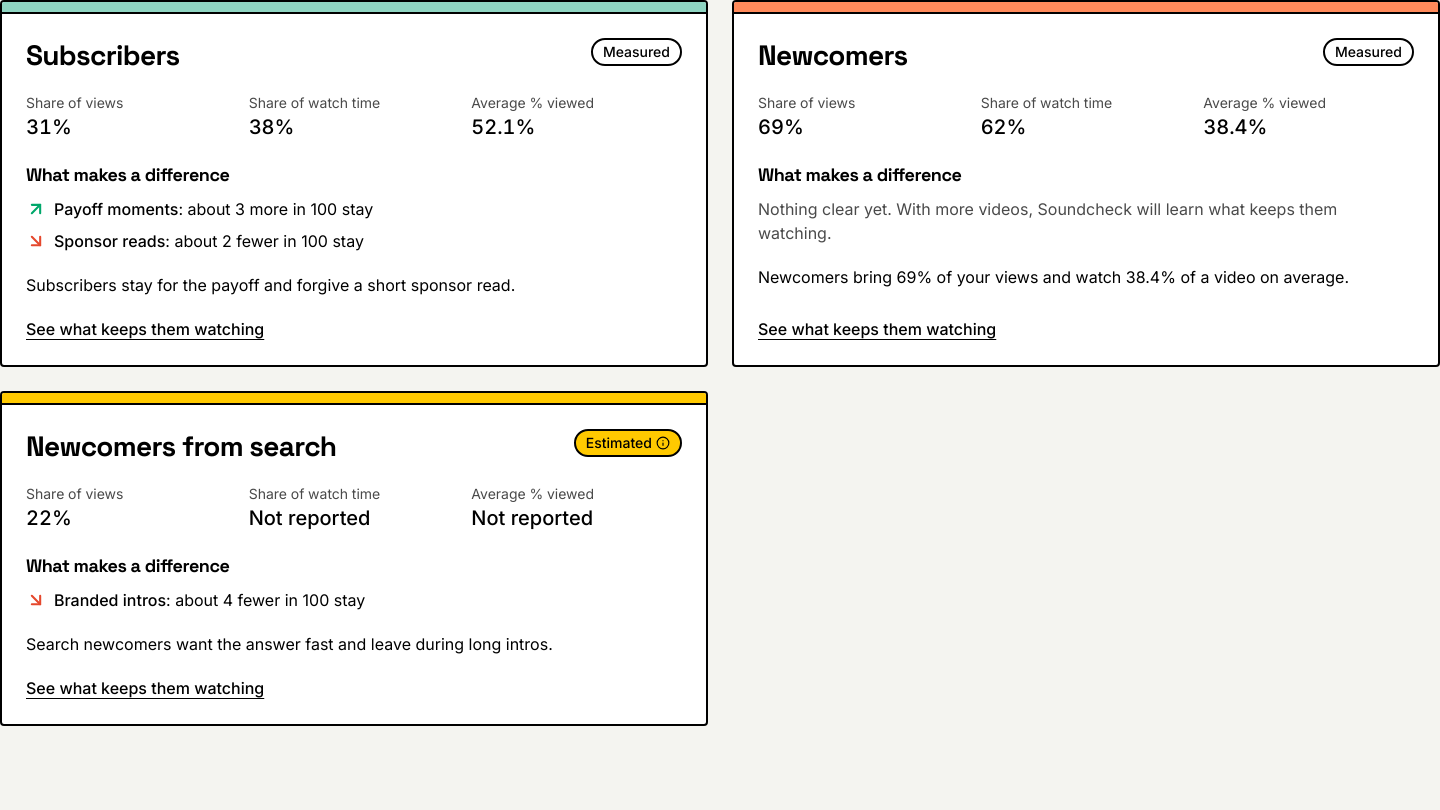
AudienceGrid › opens a card's sheet with its effects in plain words, grouped by what they say
Click the button "See what keeps them watching" below "Sponsor reads" at (145, 329), box [26, 317, 264, 341]
(page scrolled)
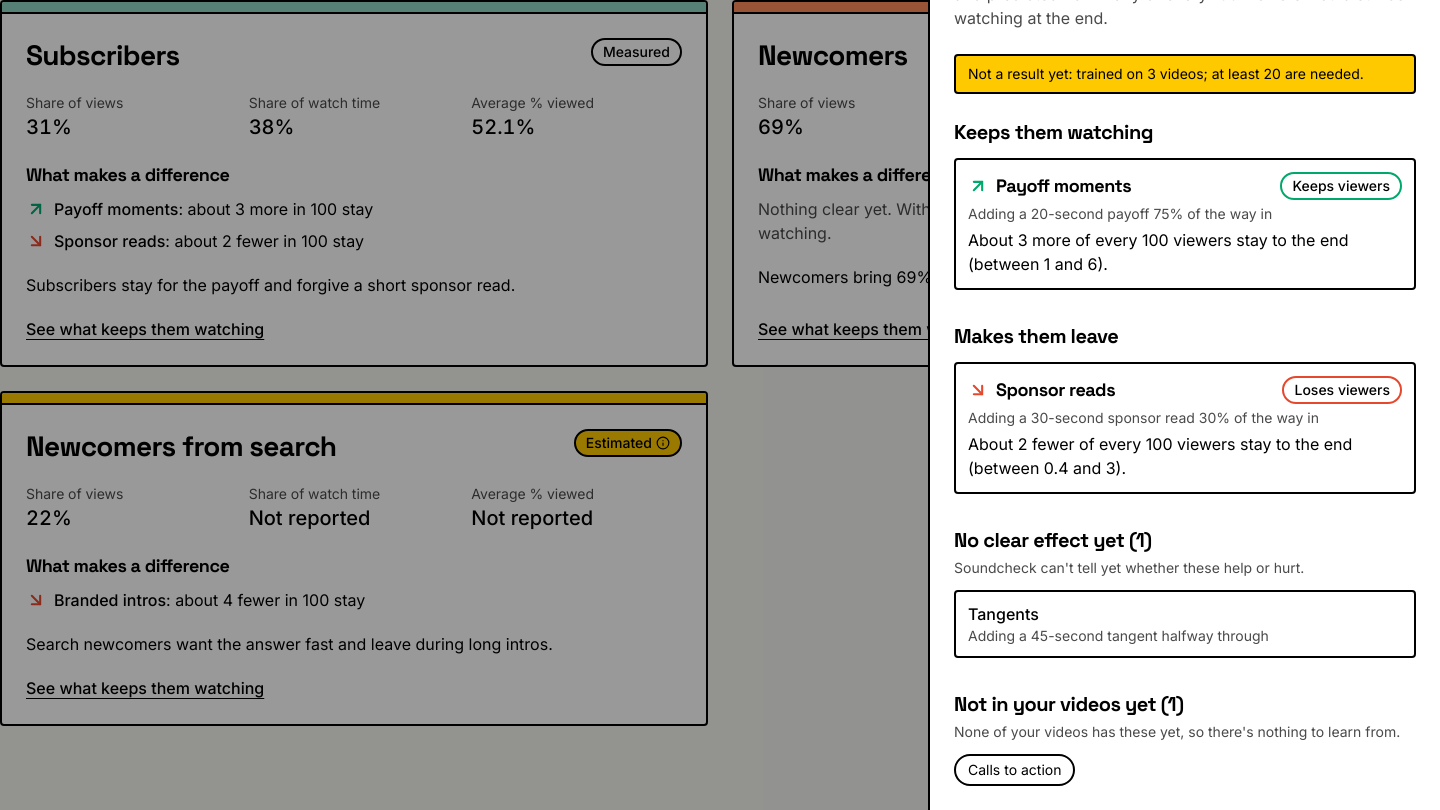
Check: the text "Not a result yet: trained on 3 videos" is shown, box [954, 54, 1416, 94]
Check: the text "Payoff moments" is shown, box [968, 172, 1131, 200]
Check: the text "Keeps viewers" is shown, box [1280, 172, 1402, 200]
